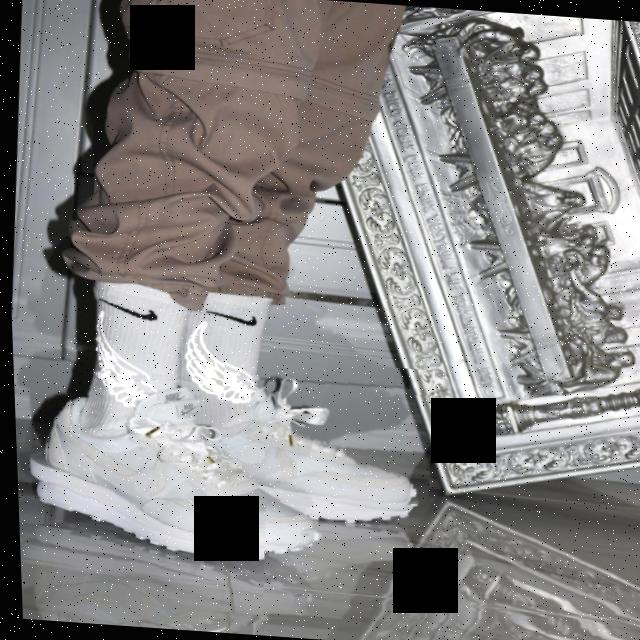shoe: (26, 323, 276, 614), (212, 355, 435, 514)
